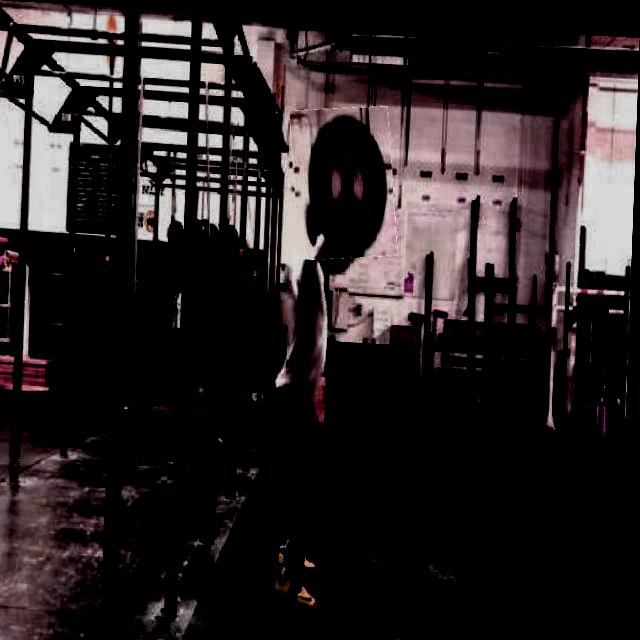barbell: (290, 101, 400, 258)
